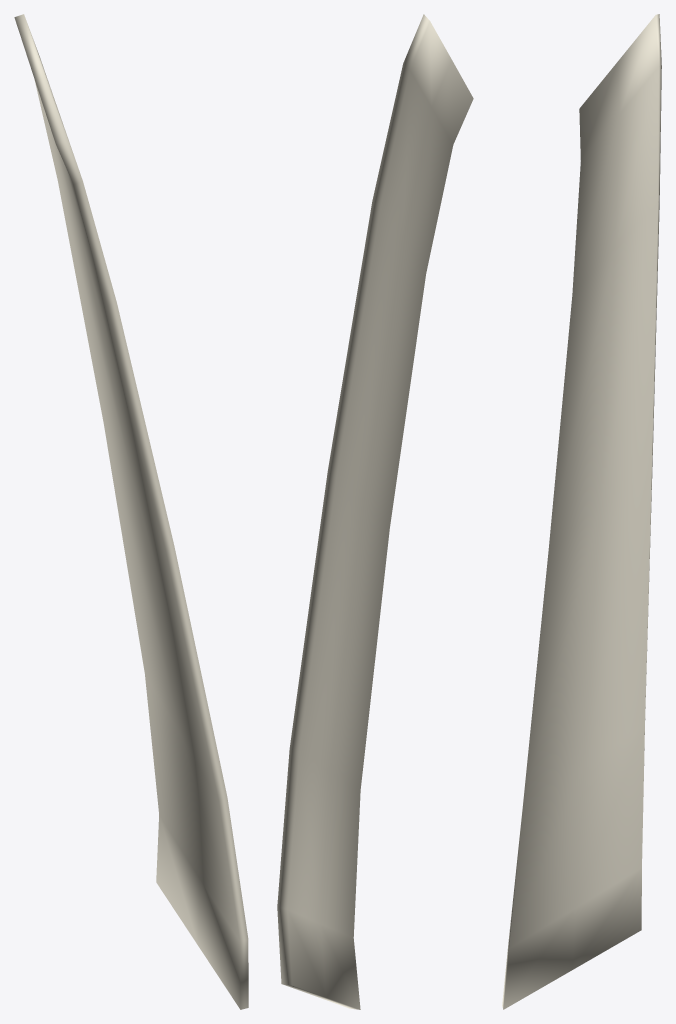
3 views of the same model, side by side, from view 1: azimuth 30°, elevation 25°; view 2: azimuth 150°, elevation 25°; view 3: azimuth 270°, elevation 25° (orthographic). The views are drawn at different scales.
Visible parts, largest first — view 1: ZA_ce2c19273fc29fe5; view 2: ZA_ce2c19273fc29fe5; view 3: ZA_ce2c19273fc29fe5.
Part boxes in pixels (<box>): ZA_ce2c19273fc29fe5: <box>14,14,248,1009</box>; ZA_ce2c19273fc29fe5: <box>277,14,473,1009</box>; ZA_ce2c19273fc29fe5: <box>502,14,661,1009</box>.
Bounding box in the file's own units: 0.0088 × 0.0525 × 0.0082.
